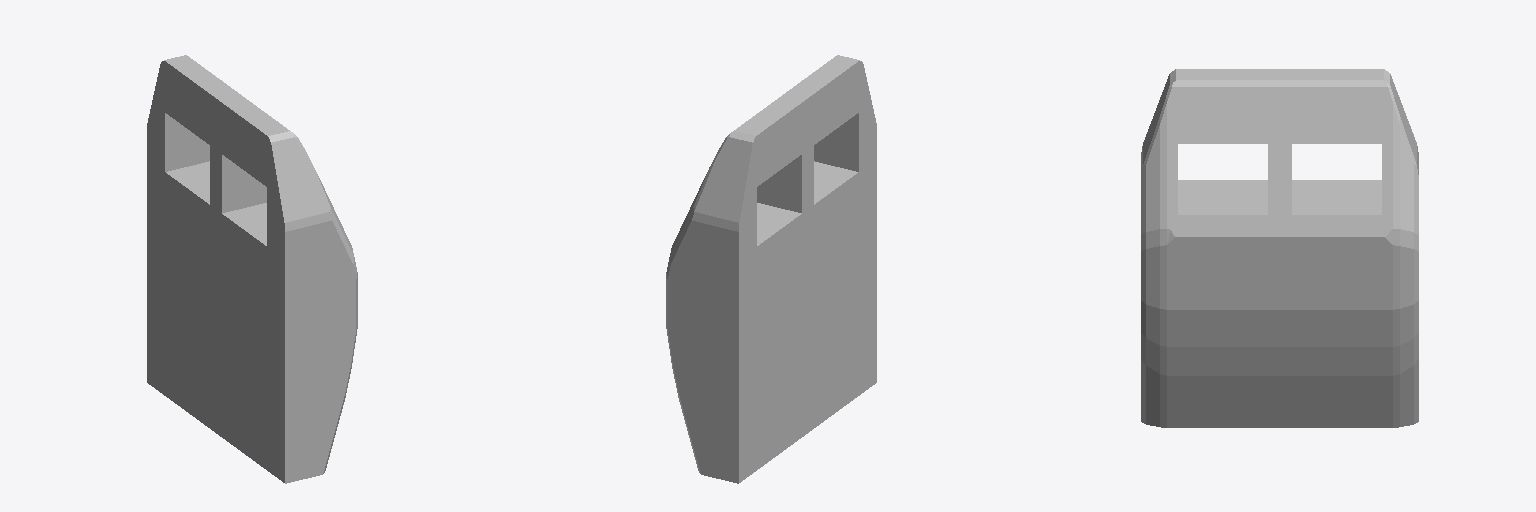
Rendered from hxd1_h.obj.
3 views of the same model, side by side, from view 1: azimuth 30°, elevation 25°; view 2: azimuth 150°, elevation 25°; view 3: azimuth 270°, elevation 25° (orthographic).
Parts seen in each view (by area): view 1: 立方体; view 2: 立方体; view 3: 立方体.
Part boxes in pixels (bbox=[...]): 立方体: bbox=[147, 55, 357, 483]; 立方体: bbox=[666, 55, 876, 483]; 立方体: bbox=[1141, 69, 1418, 427].
Bounding box in the file's own units: 1 × 4 × 3.